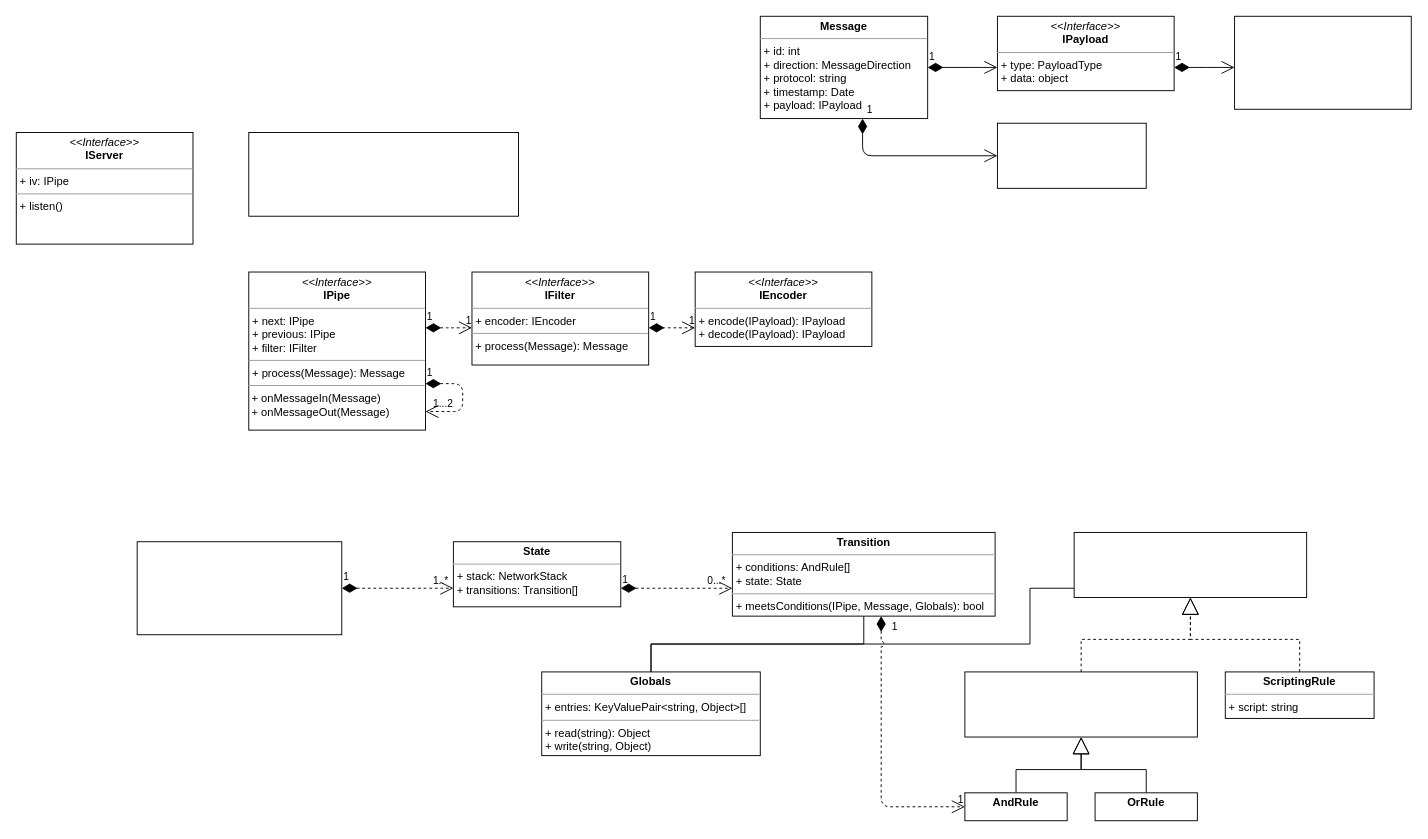
The diagram is 1428 pixels wide and 839 high, and some of its shapes have lost their labels. Here are the shapes that lost their labels. From the top down, the box of each, then its label:
(1234, 15, 1411, 109): <<Enumeration>> PayloadType + Binary + String + Object
(248, 132, 518, 216): Network Stack + entry: IPipe
(996, 122, 1146, 188): MessageDirection + source: string + destination: string
(1073, 531, 1307, 598): <<Interface>> IRule + evaluate(IPipe, Message, Globals): bool
(136, 541, 342, 635): StateMachine + currentState: State + states: State[] + switchState(State)
(964, 671, 1197, 737): <<Abstract>> ChainRule + rules: IRule[]
